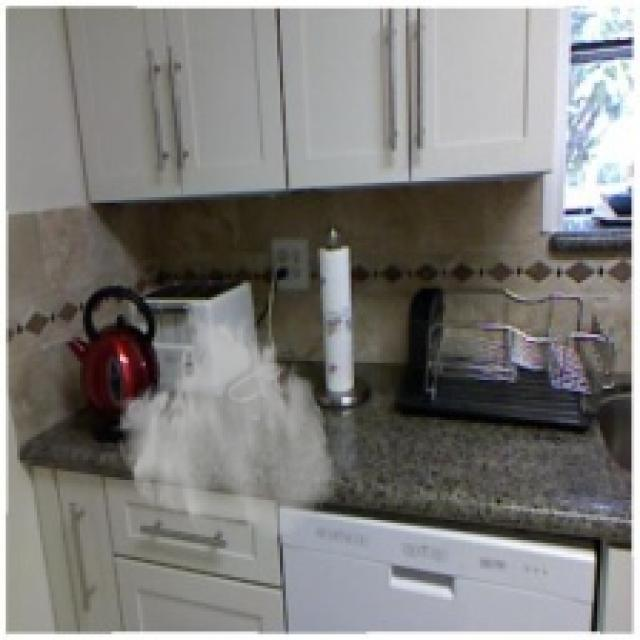Smoke: (114, 306, 337, 543)
